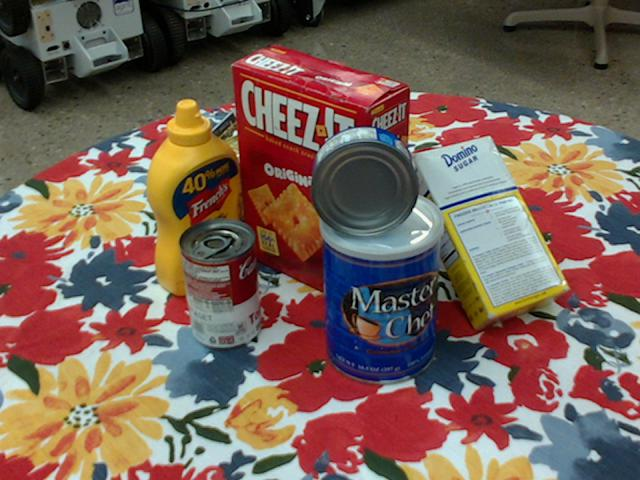cracker_box: (233, 46, 411, 308)
gelatin_box: (259, 134, 340, 206)
large_marker: (200, 90, 265, 151)
master_chef_can: (318, 190, 442, 387)
mug: (394, 147, 484, 251)
mustard_bottle: (145, 101, 245, 295)
potted_meat_can: (180, 134, 272, 242)
sugar_box: (400, 137, 570, 333)
tomato_soup_can: (177, 218, 260, 349)
tuna_fish_can: (312, 127, 420, 238)
